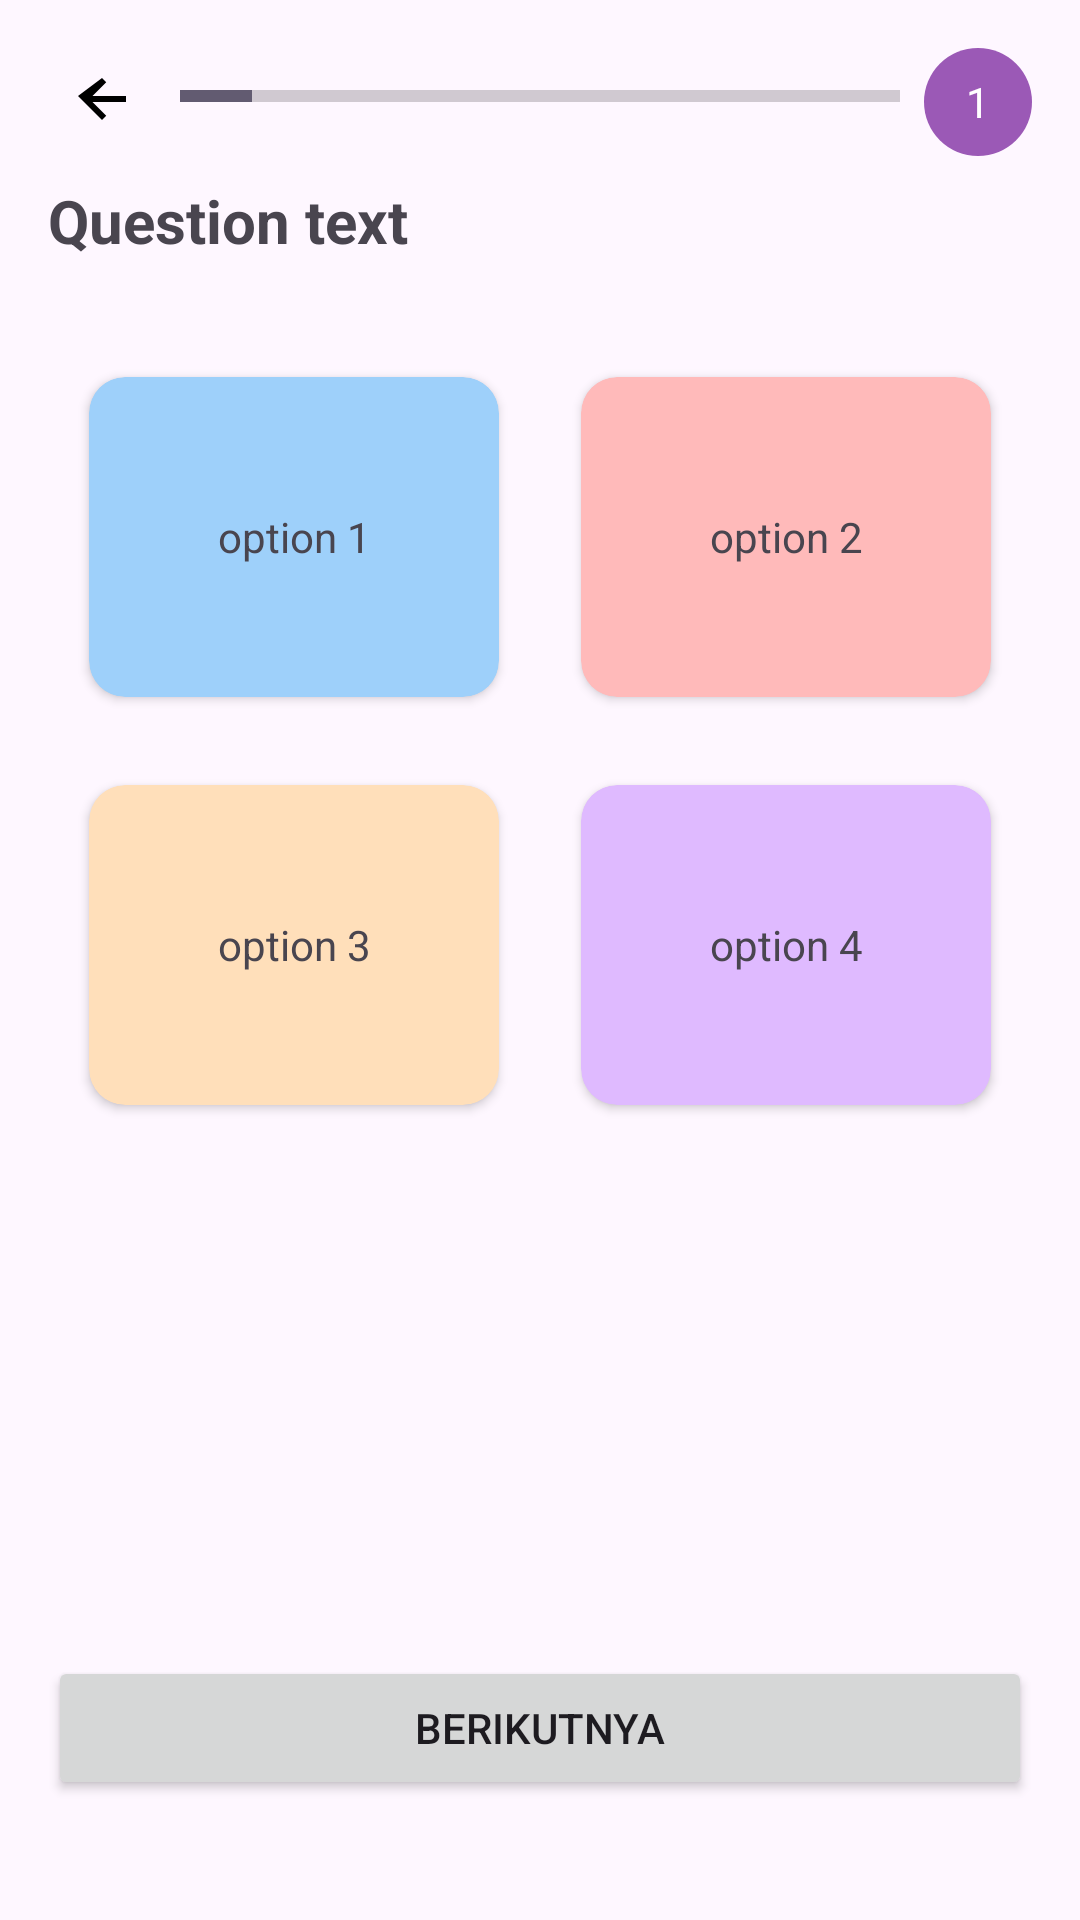

Screen size 1080x1920. Icon name, then its box in pixels as (x1, y1, x2, y2):
back: (78, 78, 126, 120)
